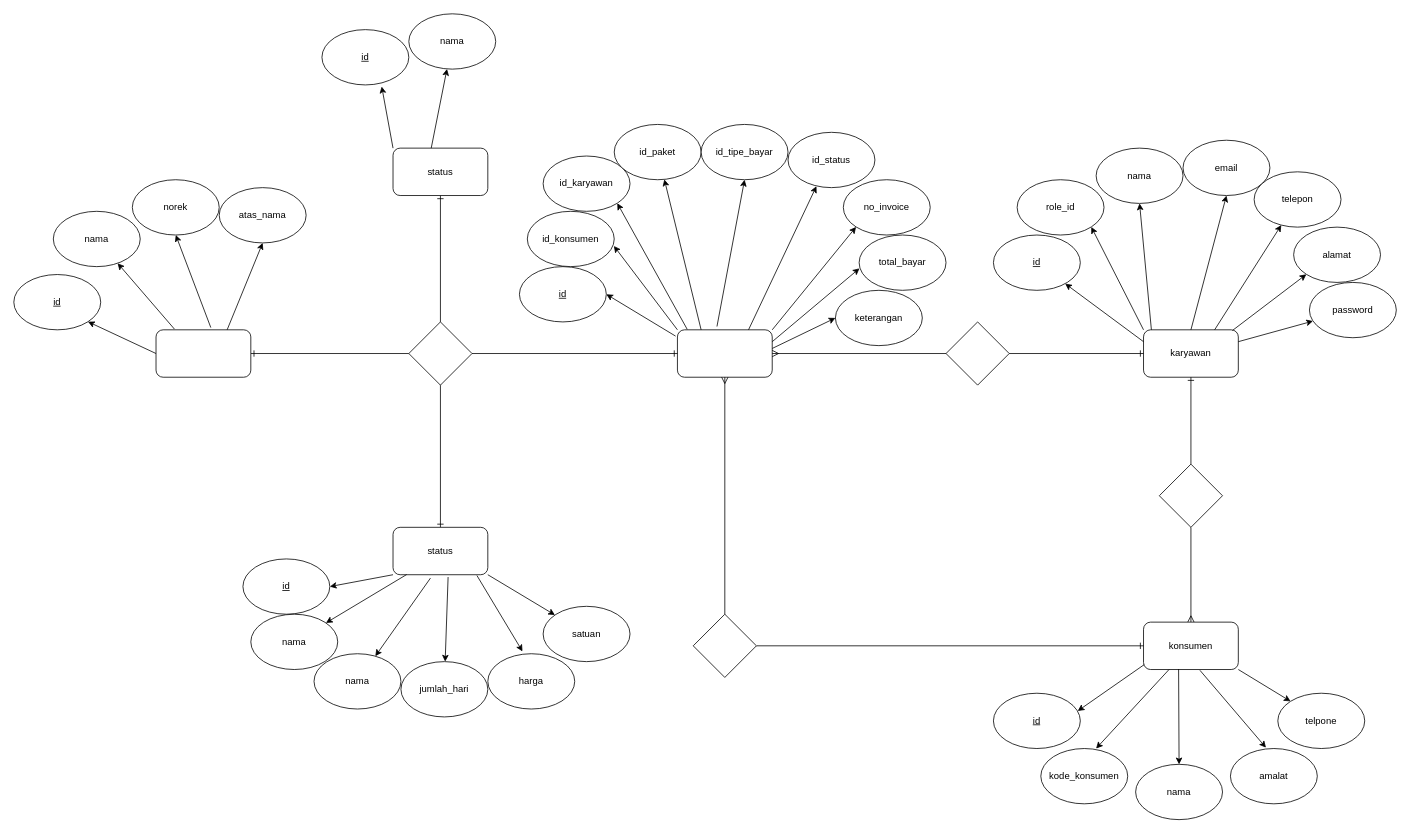
The diagram is 1410 pixels wide and 833 high, and some of its shapes have lost their labels. Here are the shapes that lost their labels. From the top down, the centre of each, then its label:
At pixel 203 353: "tipe bayar".
At pixel 440 353: "memiliki".
At pixel 724 353: "Transaksi".
At pixel 977 353: "mengelola".
At pixel 1191 495: "malayani".
At pixel 724 645: "melakukan".
